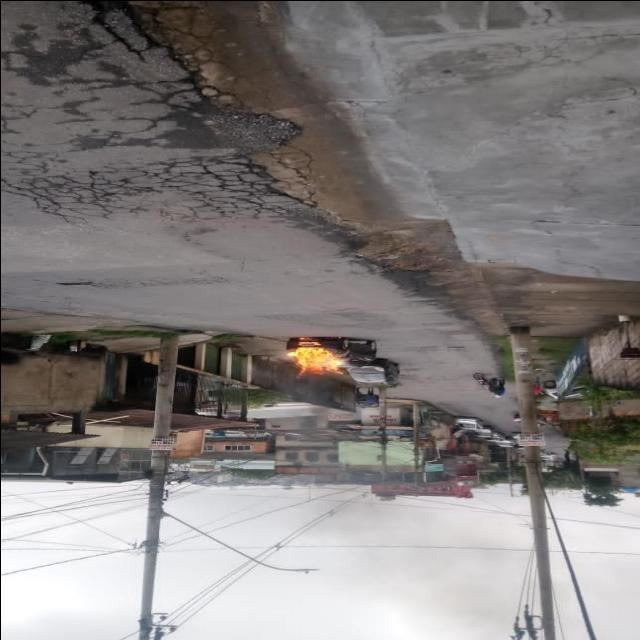Fire: (284, 340, 346, 372)
